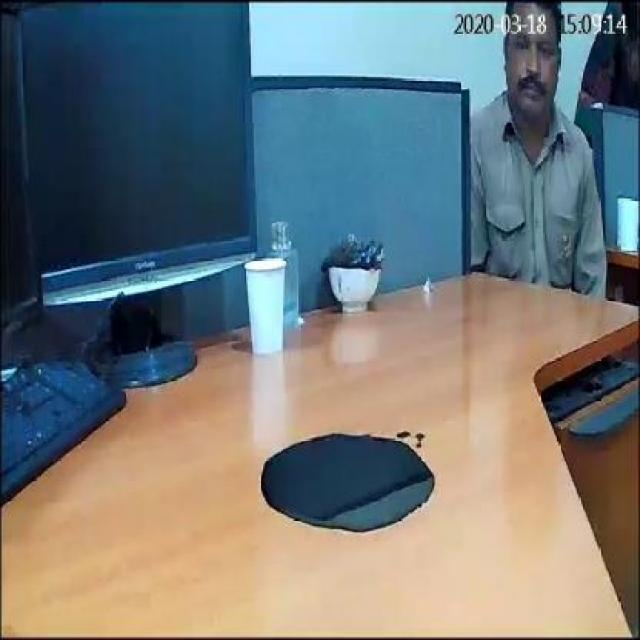spill: (260, 433, 434, 532)
